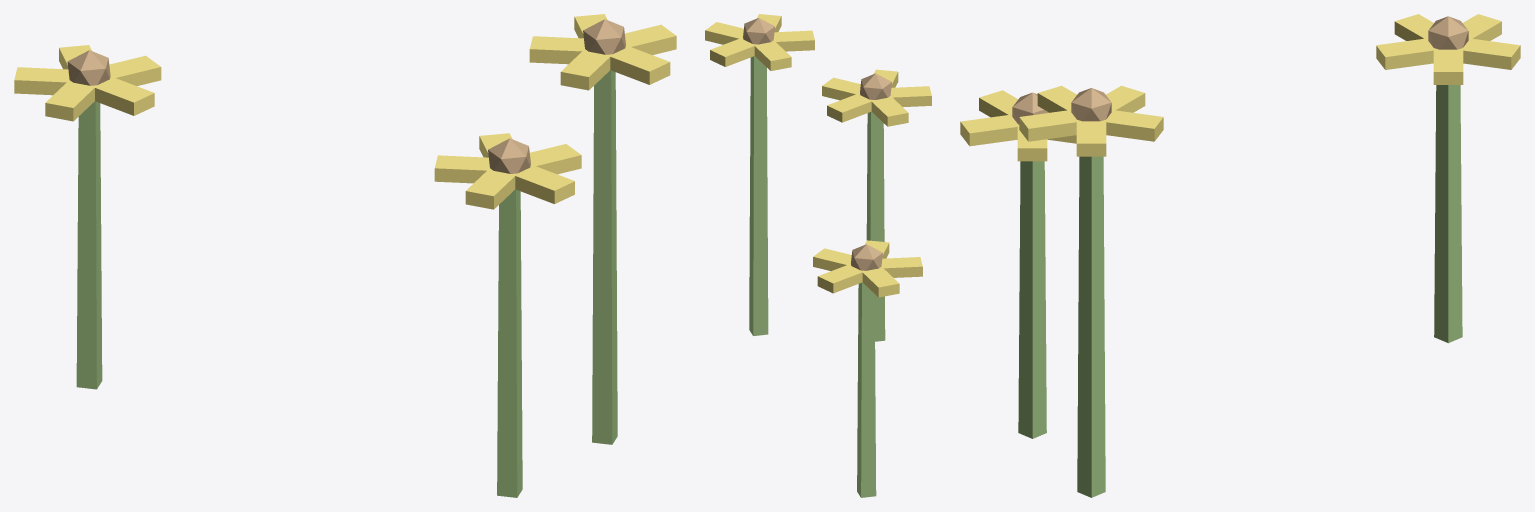
Rendered from Flower_A.fbx.
The picture shows the model from 3 angles, left to right: view 1: azimuth 30°, elevation 25°; view 2: azimuth 150°, elevation 25°; view 3: azimuth 270°, elevation 25°; orthographic projection. The views are drawn at different scales.
Visible parts, largest first — view 1: Flower_A_Mesh; view 2: Flower_A_Mesh; view 3: Flower_A_Mesh.
Part boxes in pixels (left/top/right/bottom): Flower_A_Mesh: left=14, top=14, right=676, bottom=497; Flower_A_Mesh: left=705, top=14, right=931, bottom=497; Flower_A_Mesh: left=960, top=14, right=1520, bottom=497.
Size of the model in its own units: 0.4249 by 0.3763 by 0.4727.
